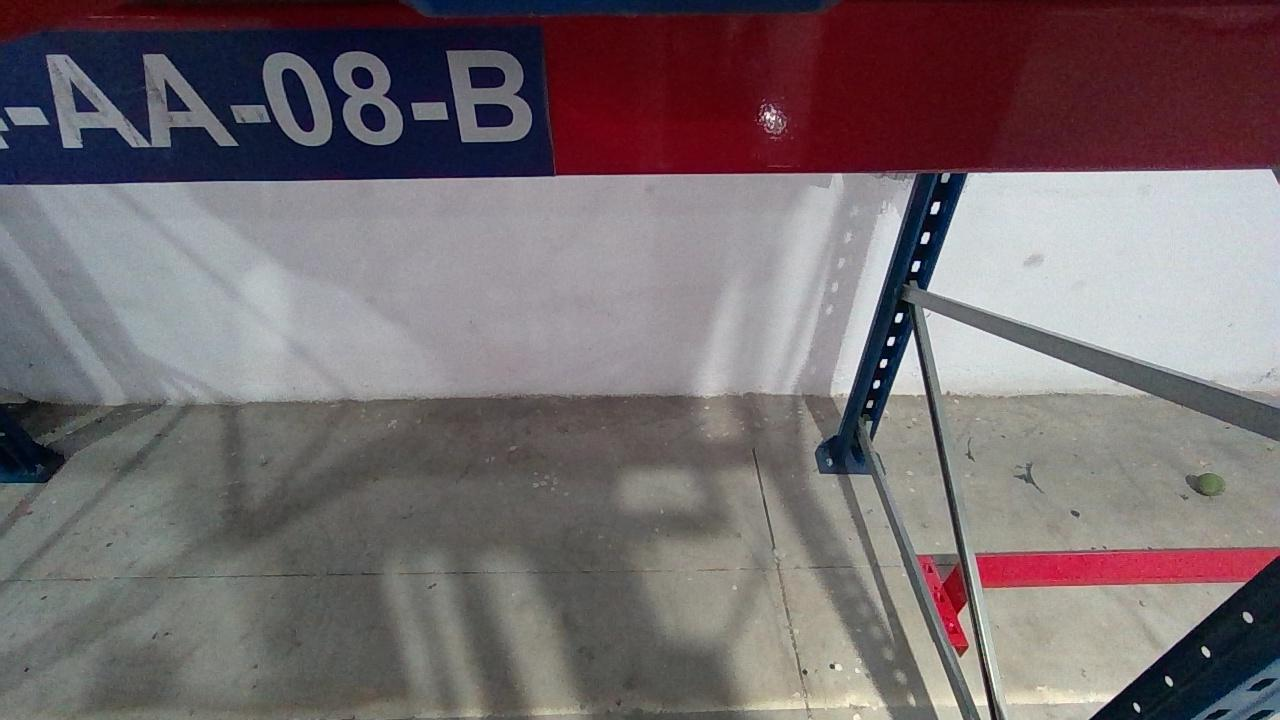h_rack: (0, 0, 1280, 180)
